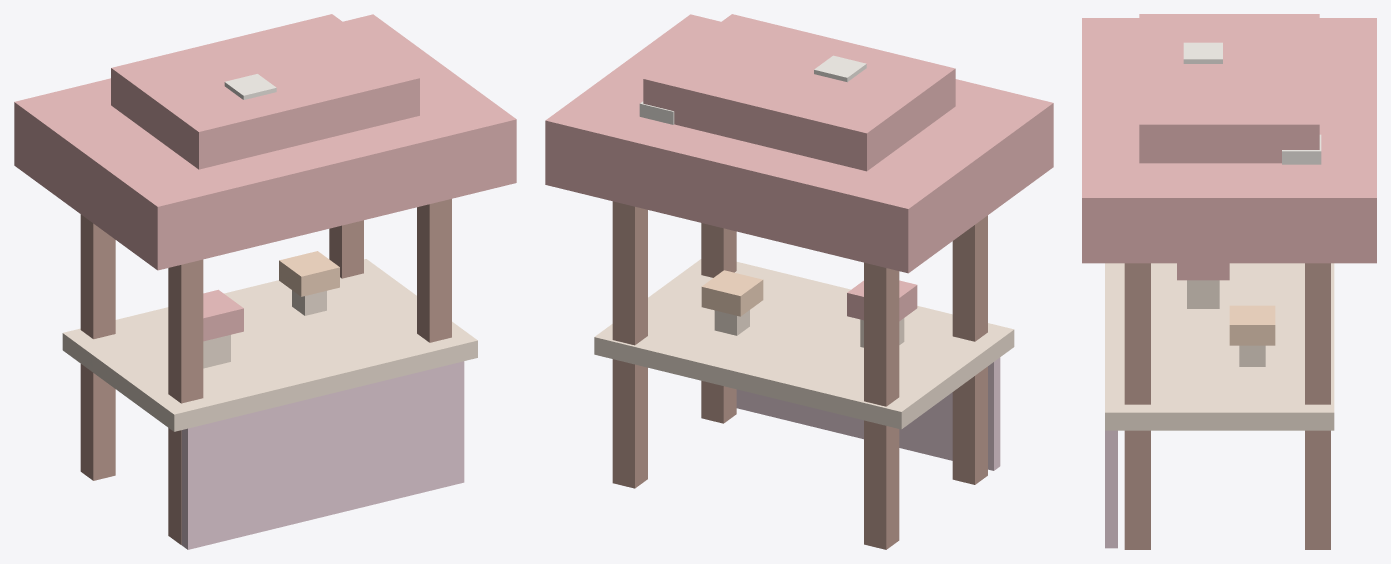
Rendered from mushroom-stall.glb.
3 views of the same model, side by side, from view 1: azimuth 30°, elevation 25°; view 2: azimuth 150°, elevation 25°; view 3: azimuth 270°, elevation 25° (orthographic). The views are drawn at different scales.
Parts seen in each view (by area): view 1: Stall, Roof; view 2: Roof, Stall; view 3: Roof, Stall.
Part boxes in pixels (x1,y1,x2,y2): Stall: [62, 199, 477, 549]; Roof: [14, 14, 516, 270]; Roof: [545, 14, 1053, 273]; Stall: [594, 201, 1014, 549]; Roof: [1082, 14, 1376, 263]; Stall: [1105, 263, 1334, 549].
Bounding box in the file's own units: 1.3 × 1.41 × 0.9.
